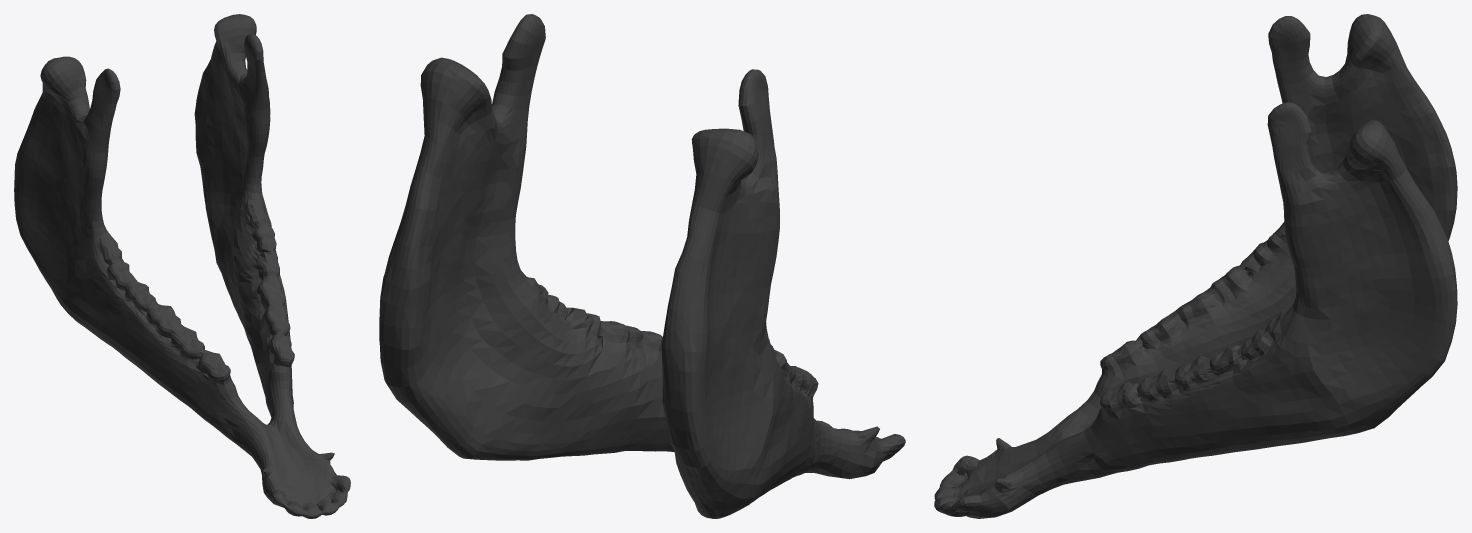
Rendered from Mandible.glb.
The picture shows the model from 3 angles, left to right: view 1: azimuth 30°, elevation 25°; view 2: azimuth 150°, elevation 25°; view 3: azimuth 270°, elevation 25°; orthographic projection. The views are drawn at different scales.
Visible parts, largest first — view 1: Mandible; view 2: Mandible; view 3: Mandible.
Part boxes in pixels (box(x1,y1,x2,y2)): Mandible: box(14, 14, 350, 518); Mandible: box(379, 14, 905, 518); Mandible: box(934, 14, 1457, 518).
Bounding box in the file's own units: 0.293 × 0.482 × 0.5052.
Materials: 1 (1 with a texture image).
